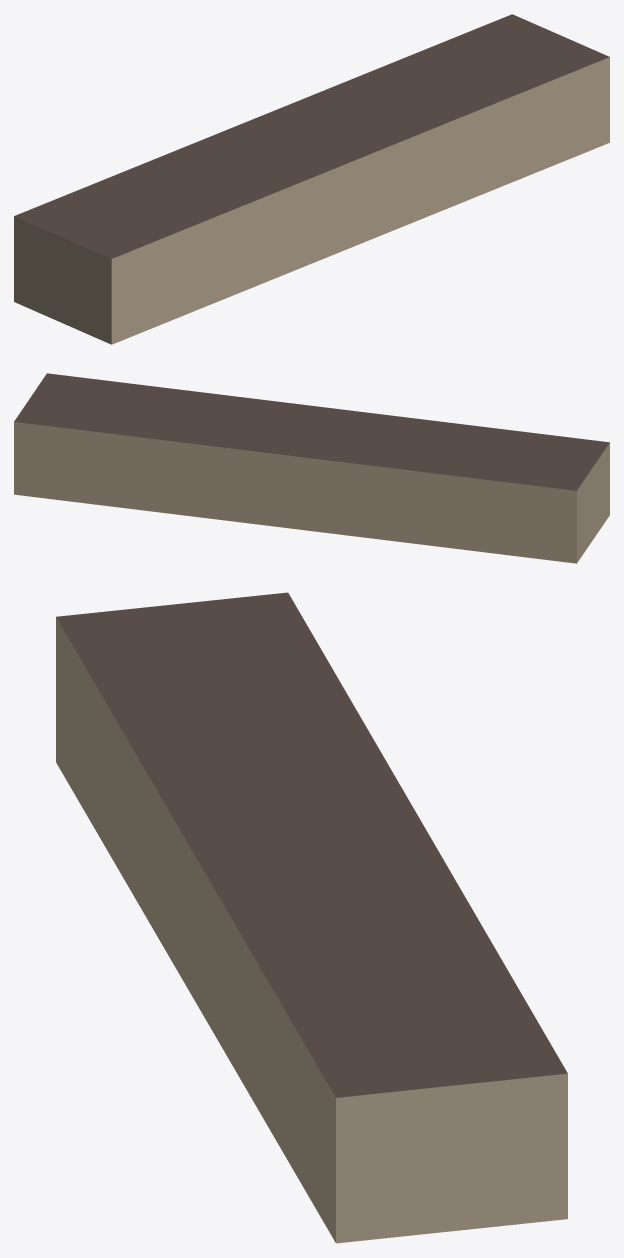
The picture shows the model from 3 angles, top to bottom: view 1: azimuth 30°, elevation 25°; view 2: azimuth 150°, elevation 25°; view 3: azimuth 270°, elevation 25°; orthographic projection. The views are drawn at different scales.
Parts seen in each view (by area): view 1: HP-w1323529980; view 2: HP-w1323529980; view 3: HP-w1323529980.
Part boxes in pixels (x1=…): HP-w1323529980: x1=14, y1=14, x2=609, y2=344; HP-w1323529980: x1=14, y1=373, x2=609, y2=563; HP-w1323529980: x1=56, y1=592, x2=567, y2=1243.
Size of the model in its own units: 67.01 by 9 by 28.68.
